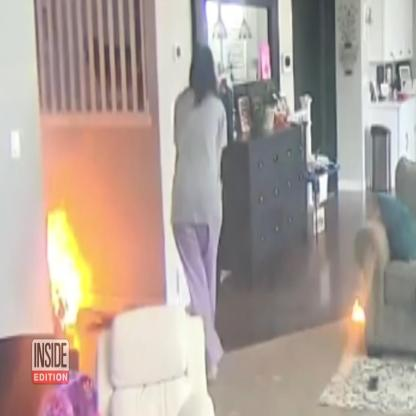fire: (46, 210, 92, 324), (352, 298, 365, 323)
